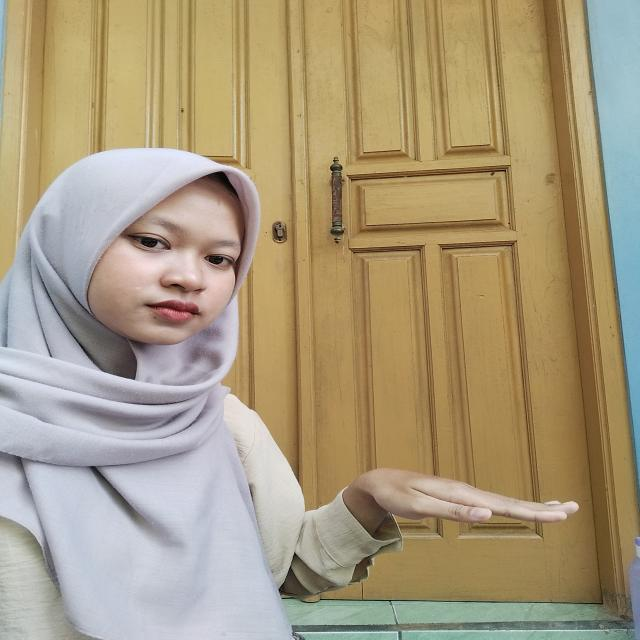adik: (318, 458, 583, 559)
